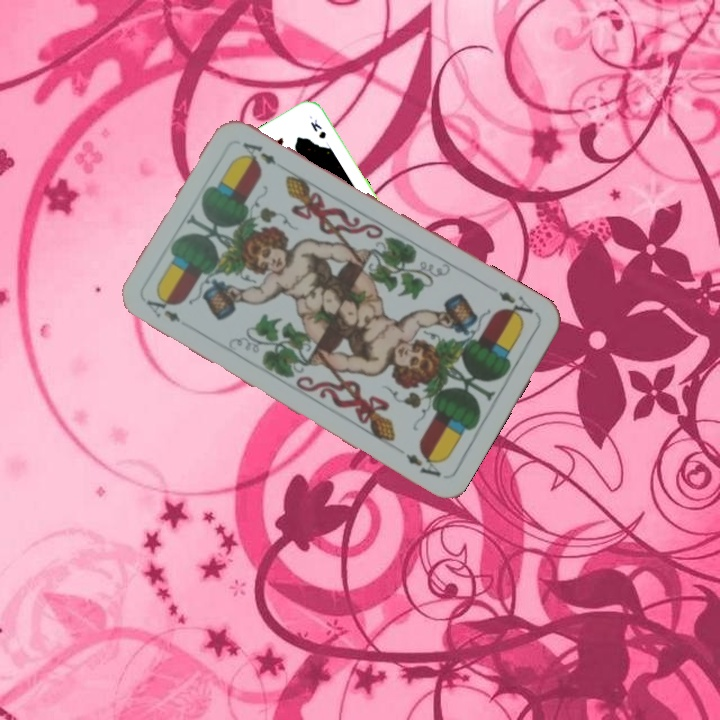EA: (494, 287, 536, 324), (142, 291, 183, 325)
